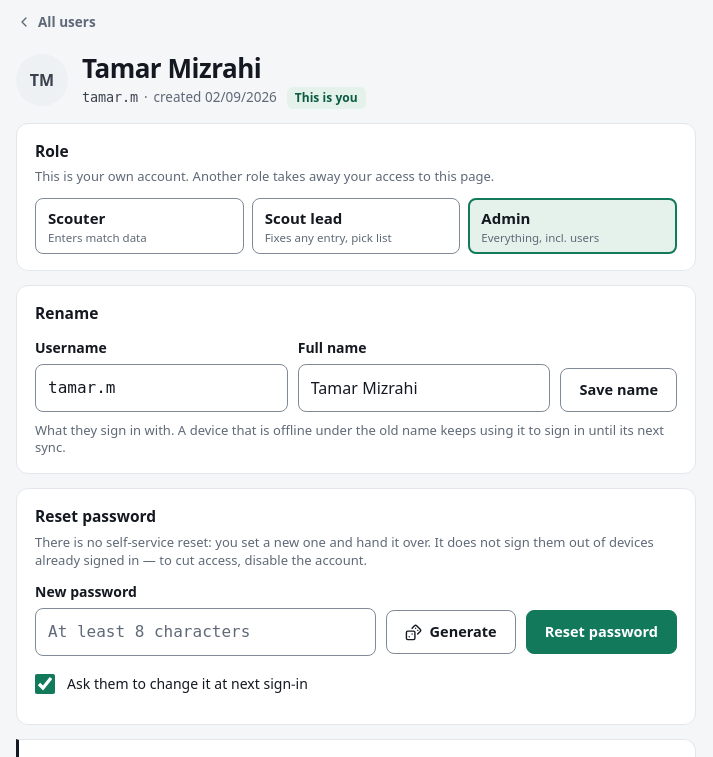
the role › a refused role change shows the server sentence and restores the role
Step 1. Click the radio button labelled "Scouter Enters match data" → (139, 226), box [35,198,244,254]
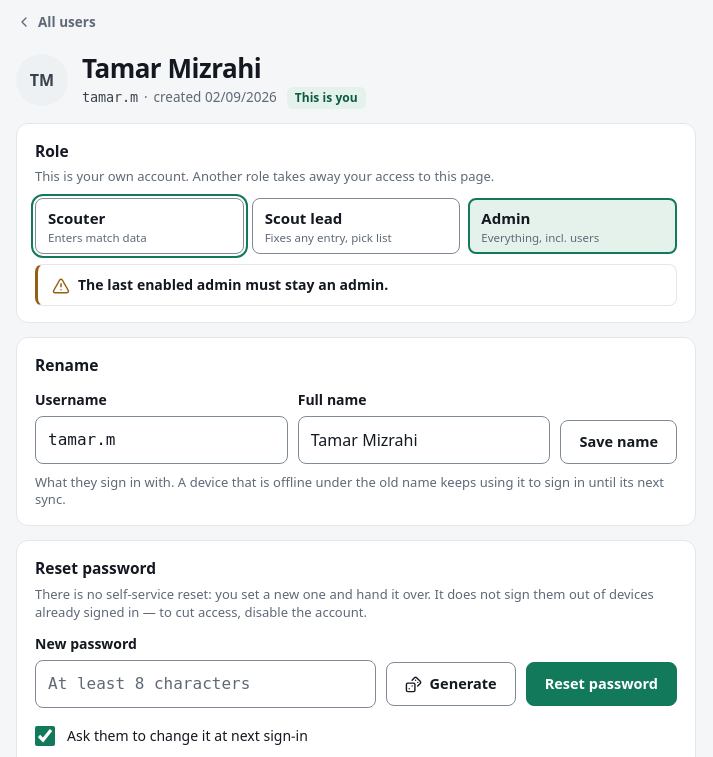
Check: the radio button labelled "Admin Everything, incl. users" is checked, box [468,198,677,254]
Check: the message reads "The last enabled admin must stay an admin.", box [78,275,388,294]
